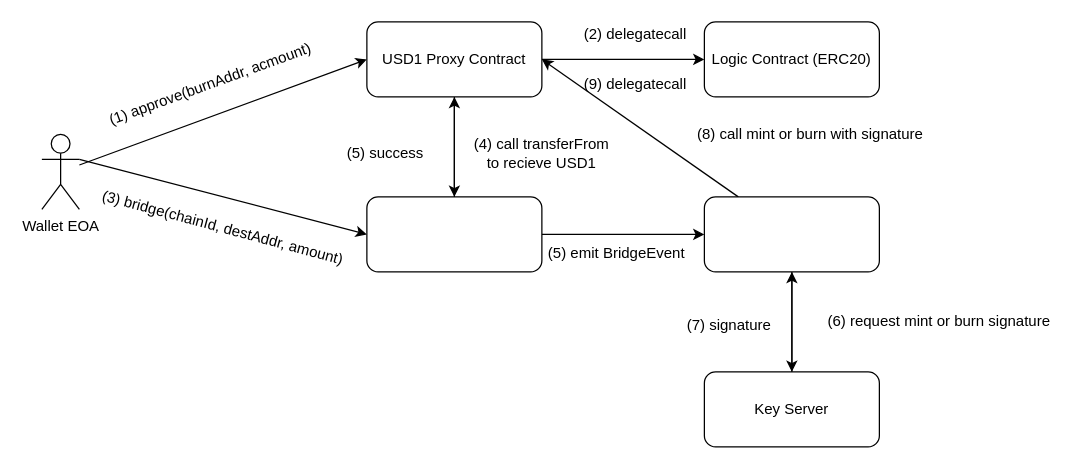
This 1083x469 diagram has some shape labels left out. Each missing label, with the box of its shape:
Bridge Contract: (366, 196, 542, 272)
Mint/Burn Server: (703, 196, 879, 272)
